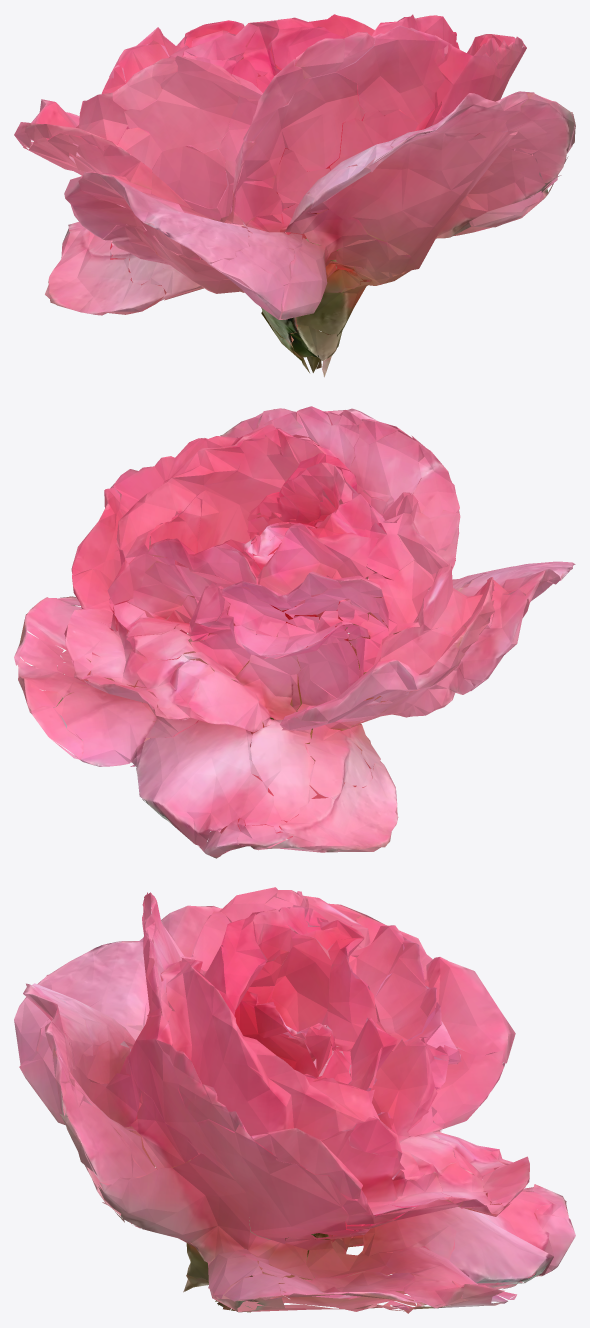
Rendered from rose-rosa.glb.
3 renders of one model, top to bottom at view 1: azimuth 30°, elevation 25°; view 2: azimuth 150°, elevation 25°; view 3: azimuth 270°, elevation 25°, orthographic. The views are drawn at different scales.
Visible parts, largest first — view 1: rose-rosa; view 2: rose-rosa; view 3: rose-rosa.
Boxes of the visible parts, left/top/right/bottom form: rose-rosa: left=14, top=14, right=575, bottom=377; rose-rosa: left=14, top=406, right=575, bottom=858; rose-rosa: left=14, top=887, right=575, bottom=1313.
Bounding box in the file's own units: 0.4457 × 0.3078 × 0.394.
Materials: 1 (1 with a texture image).
